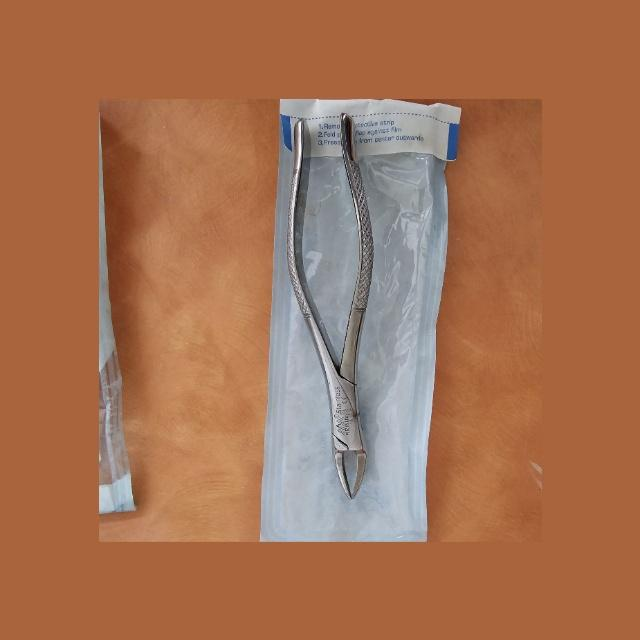forceps: (283, 114, 373, 501)
